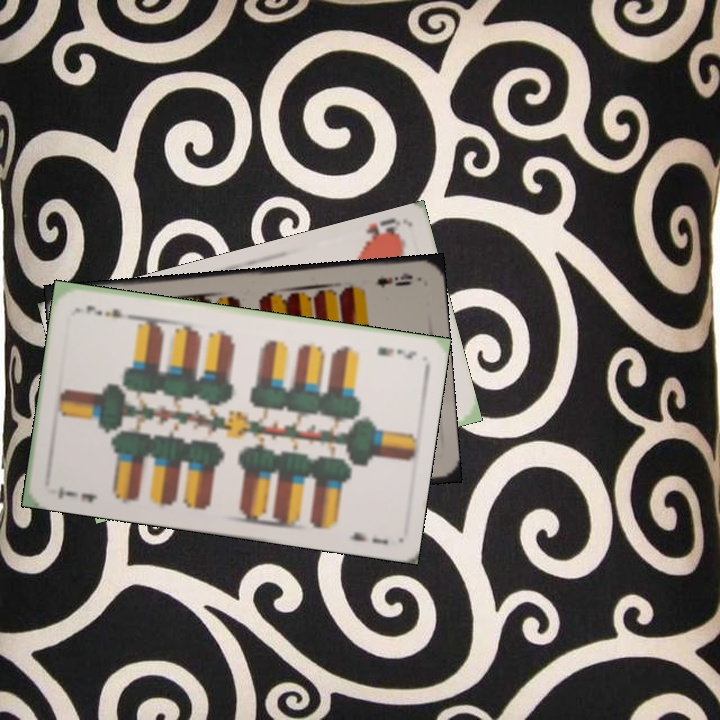E7: (53, 482, 101, 505), (373, 342, 419, 362)
E9: (373, 268, 416, 291)
HO: (358, 214, 403, 251)
